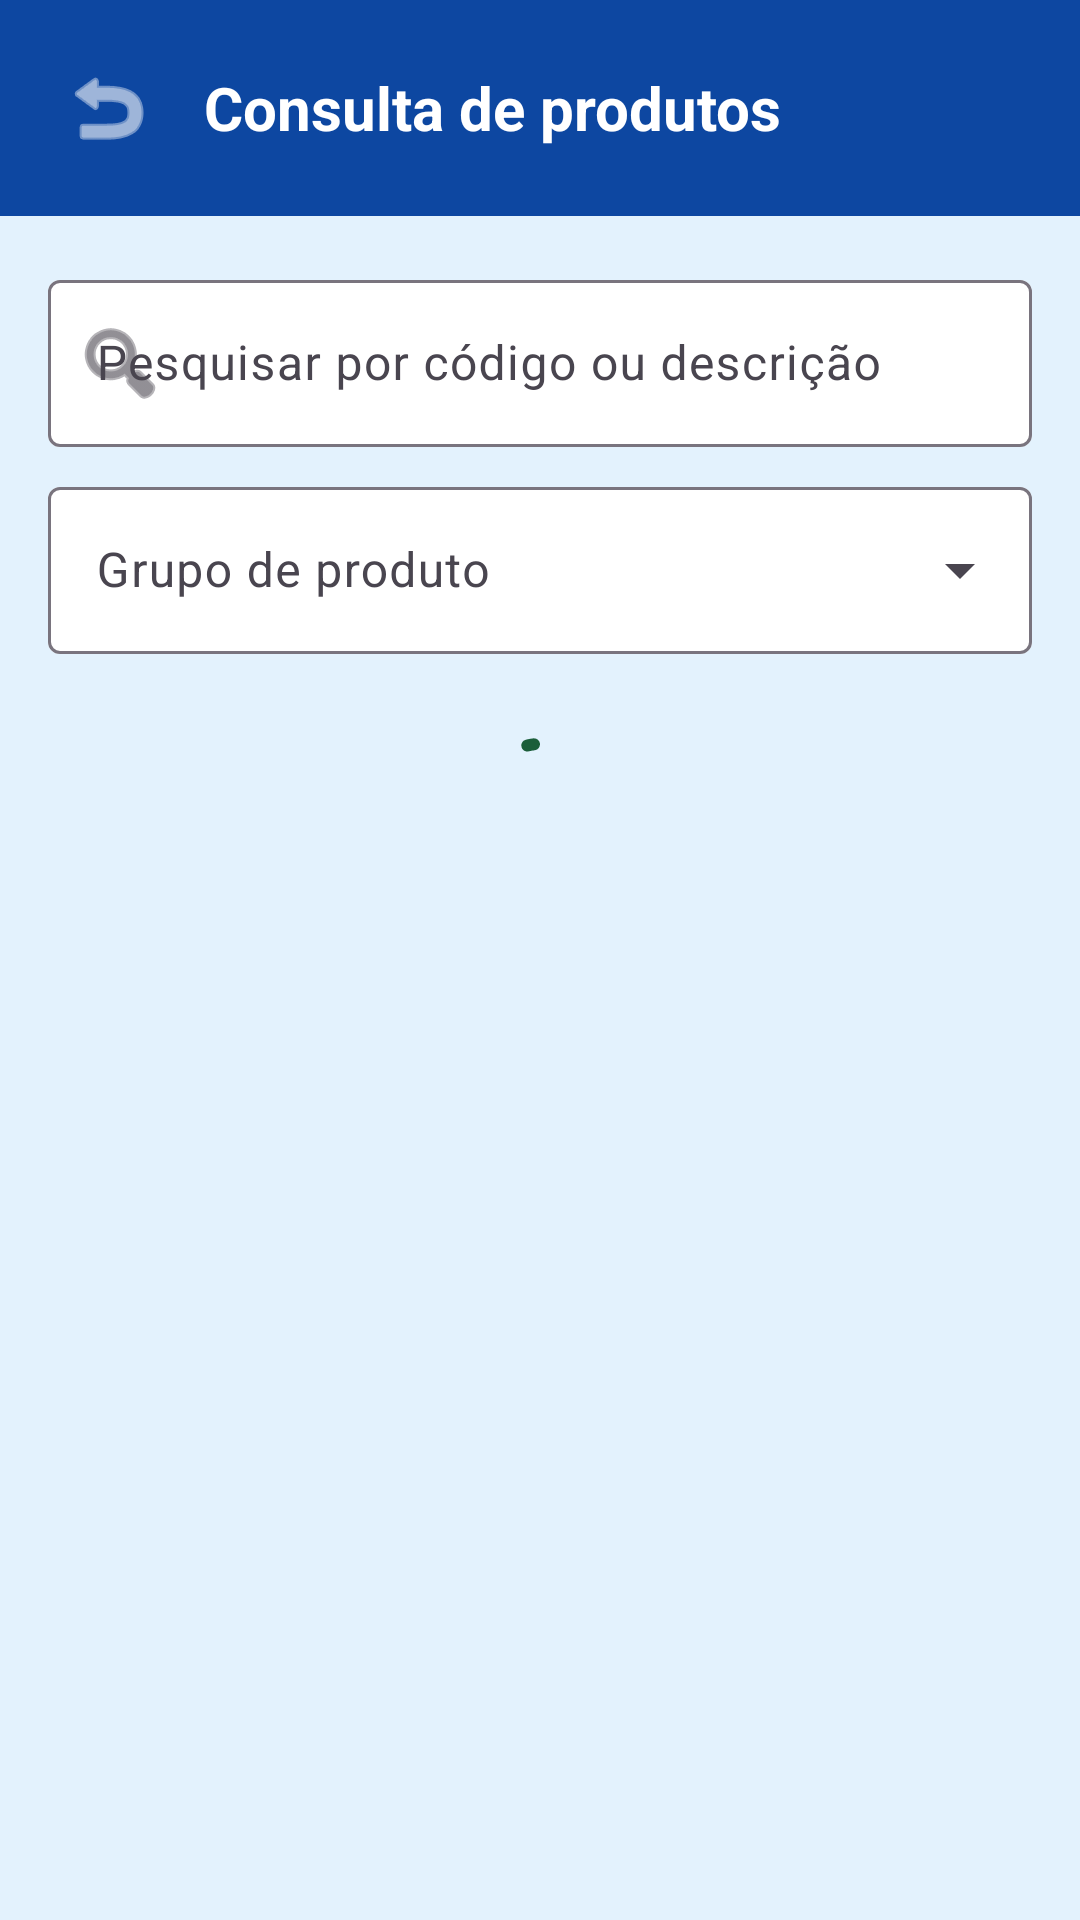

Locate icon controls on the screen. Image size 1080px×1920px, boxes as detection(x1, y1, x2, y2).
Voltar: detection(75, 77, 144, 140)
